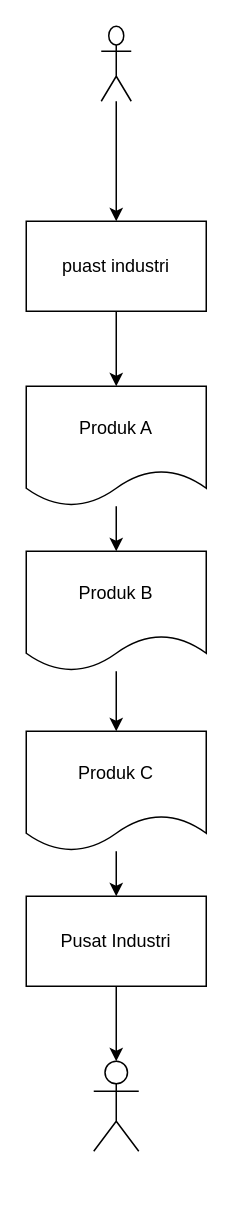
Some shapes in this 233 by 1209 pixel diagram are drawn without their labels. The shapes that lost their labels are listed below. From the top down, each one's centre as x and y in pixels, then its label:
pixel 115 63: Pelanggan 1
pixel 115 1105: Pelanggan 2
